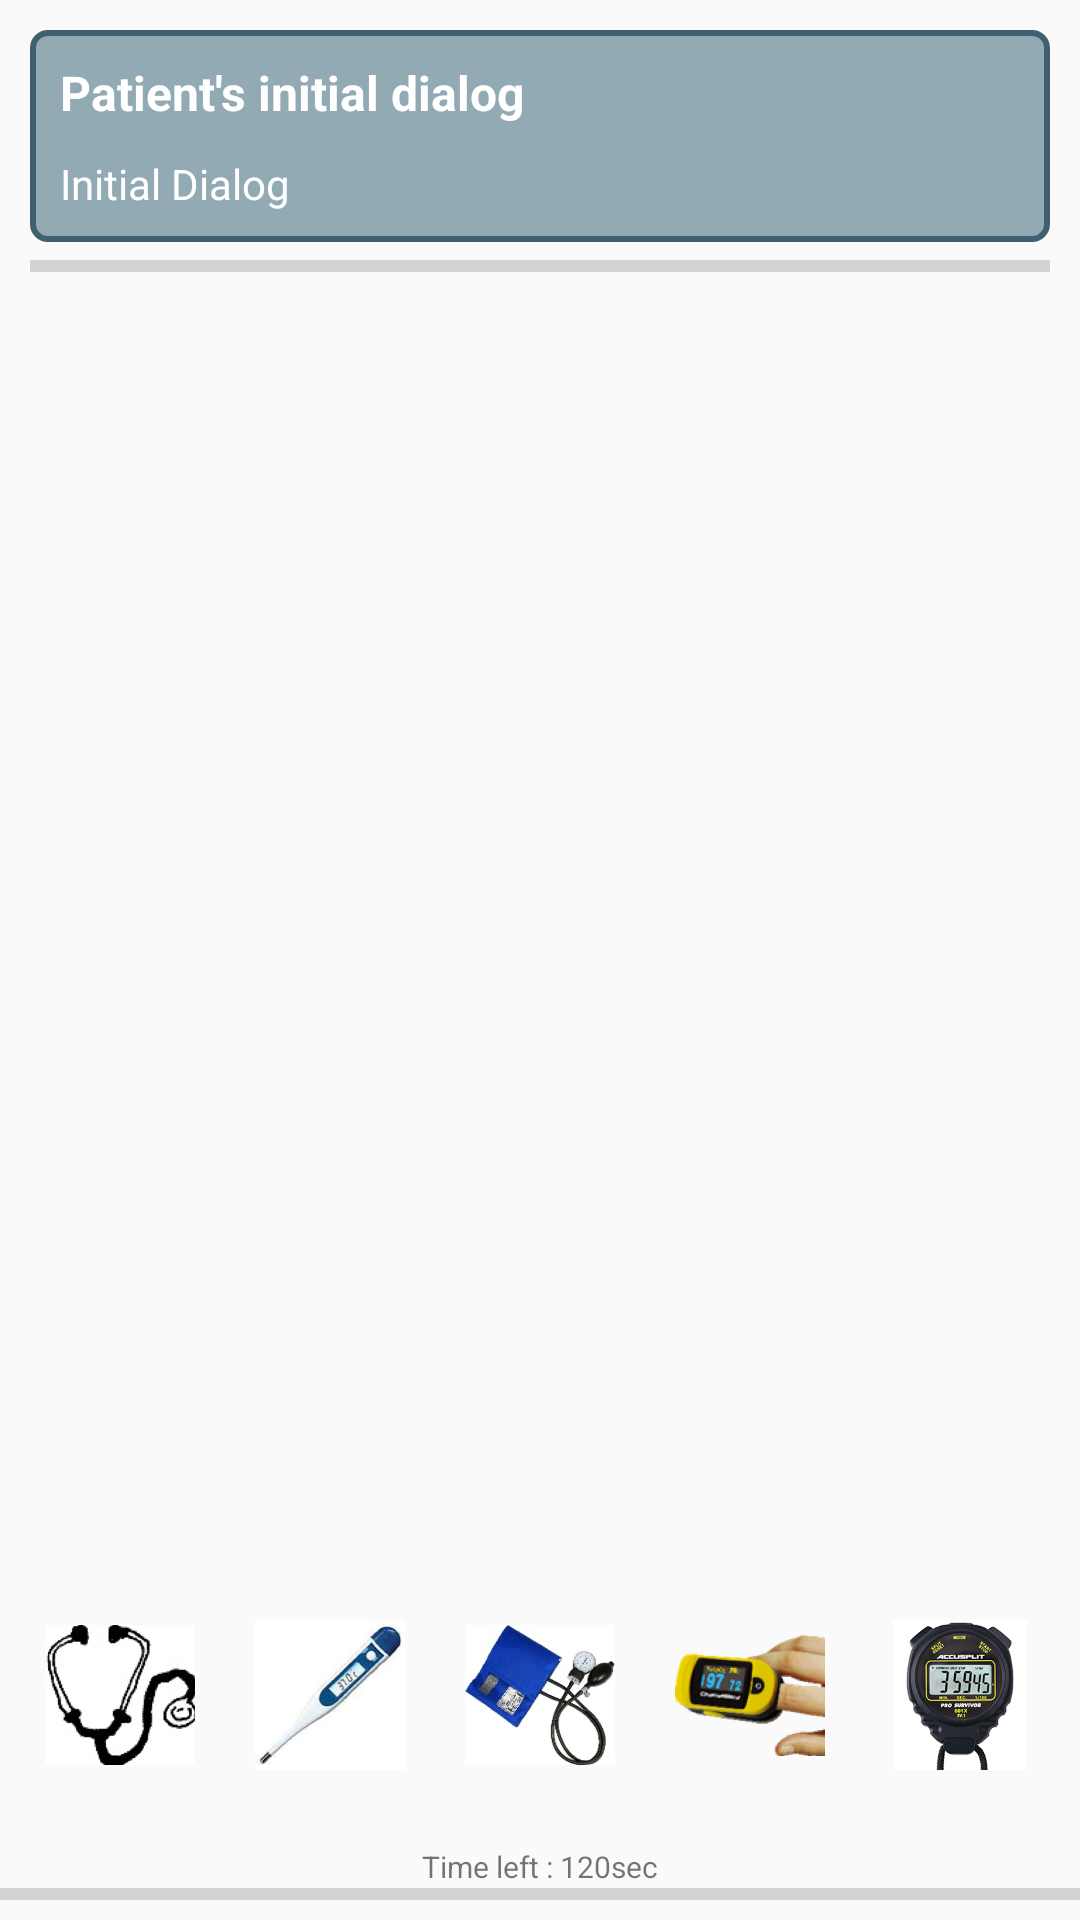

Point at icon controls on the screen. Image size 1080x1920, points as [x,y].
sphygmomanometer: [540,1695]
stethoscope: [120,1695]
thermometer: [330,1695]
